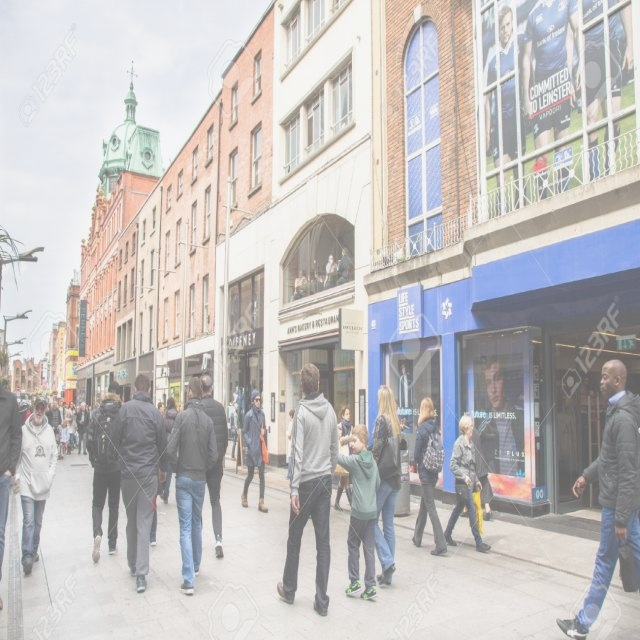pessoa: (480, 0, 640, 215), (554, 356, 640, 639), (276, 362, 340, 617), (110, 374, 168, 594), (164, 374, 220, 596), (13, 394, 59, 576), (337, 422, 382, 600), (364, 383, 402, 586), (85, 380, 124, 564), (442, 412, 492, 553), (472, 348, 526, 476), (194, 374, 229, 559), (0, 353, 23, 613), (411, 395, 448, 556), (240, 387, 270, 512), (460, 426, 492, 520), (333, 405, 354, 512), (393, 362, 415, 434), (162, 396, 182, 444), (74, 400, 90, 456), (336, 246, 354, 288), (64, 400, 78, 452), (286, 408, 296, 480), (232, 386, 246, 428), (323, 252, 338, 290), (292, 268, 308, 302), (230, 402, 239, 461), (48, 399, 62, 432), (18, 398, 35, 425), (59, 418, 70, 456), (149, 502, 158, 547), (72, 402, 80, 448), (313, 265, 325, 283), (58, 400, 66, 426), (157, 401, 166, 418), (85, 403, 94, 420), (45, 402, 53, 418), (62, 402, 68, 418), (55, 434, 60, 451), (177, 402, 184, 412), (92, 401, 100, 408)
